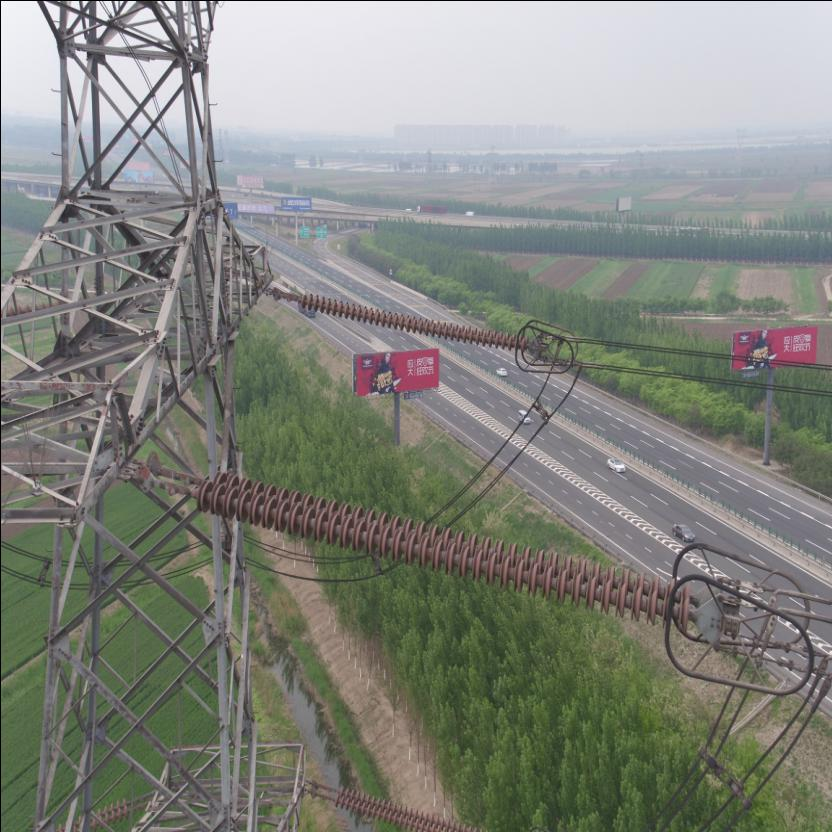insulator: (174, 466, 700, 635), (284, 288, 532, 352), (326, 780, 486, 830)
